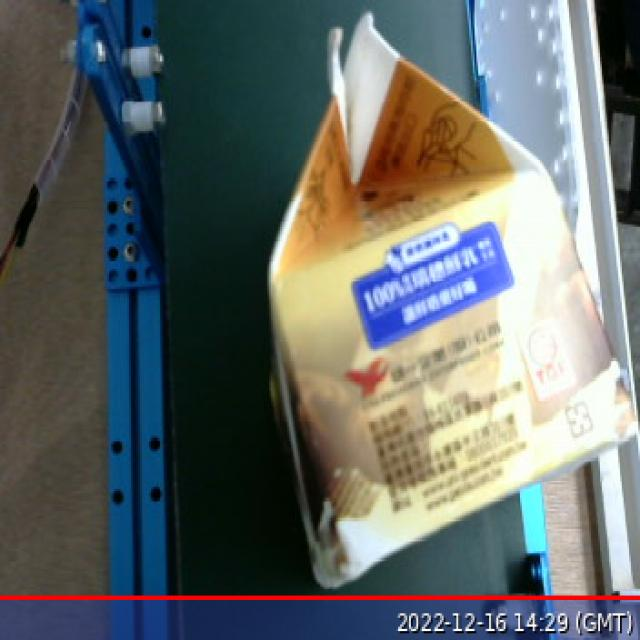non_white_jug: (228, 6, 636, 616)
